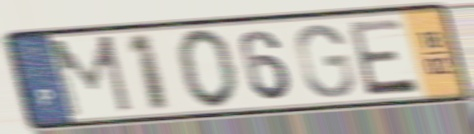1: (126, 31, 176, 114)
6: (237, 28, 293, 102)
E: (344, 16, 422, 99)
G: (293, 22, 357, 101)
M: (46, 32, 136, 121)
O: (175, 27, 241, 111)
